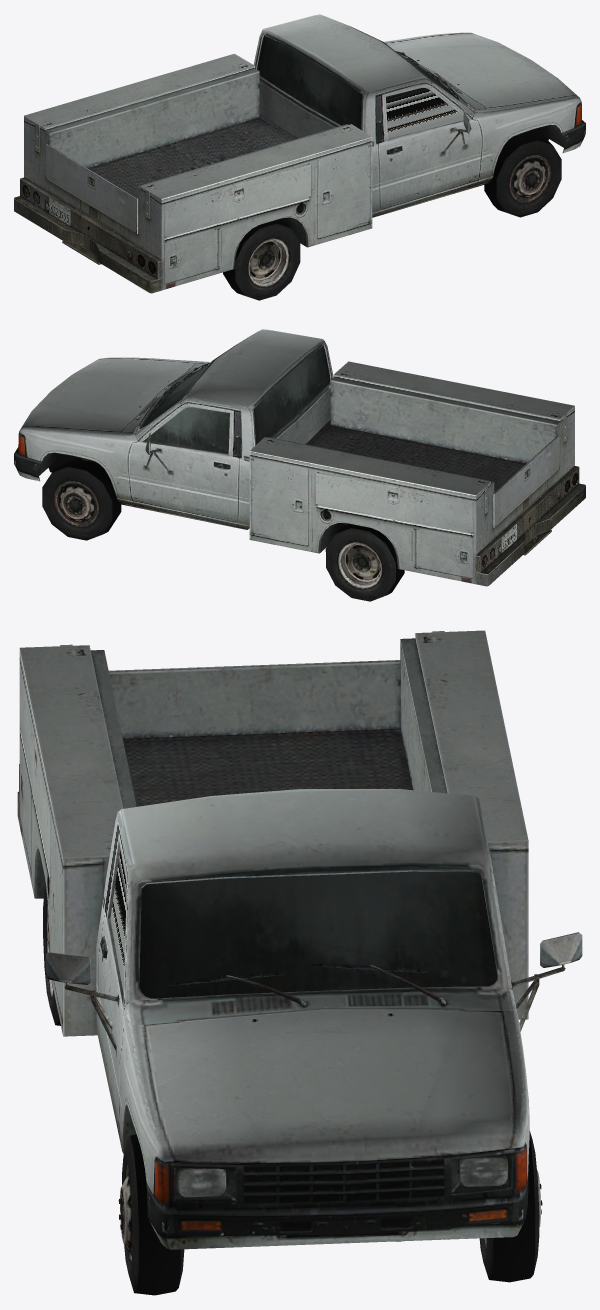
Rendered from white_small_wagon.fbx.
3 renders of one model, top to bottom at view 1: azimuth 30°, elevation 25°; view 2: azimuth 150°, elevation 25°; view 3: azimuth 270°, elevation 25°, orthographic. The views are drawn at different scales.
Visible parts, largest first — view 1: white_small_wagon.001; view 2: white_small_wagon.001; view 3: white_small_wagon.001.
Part boxes in pixels (bbox=[...]): white_small_wagon.001: bbox=[14, 14, 585, 300]; white_small_wagon.001: bbox=[14, 329, 585, 601]; white_small_wagon.001: bbox=[17, 630, 582, 1295].
Size of the model in its own units: 5.4 by 1.79 by 2.74.
Materials: 2 (2 with a texture image).
